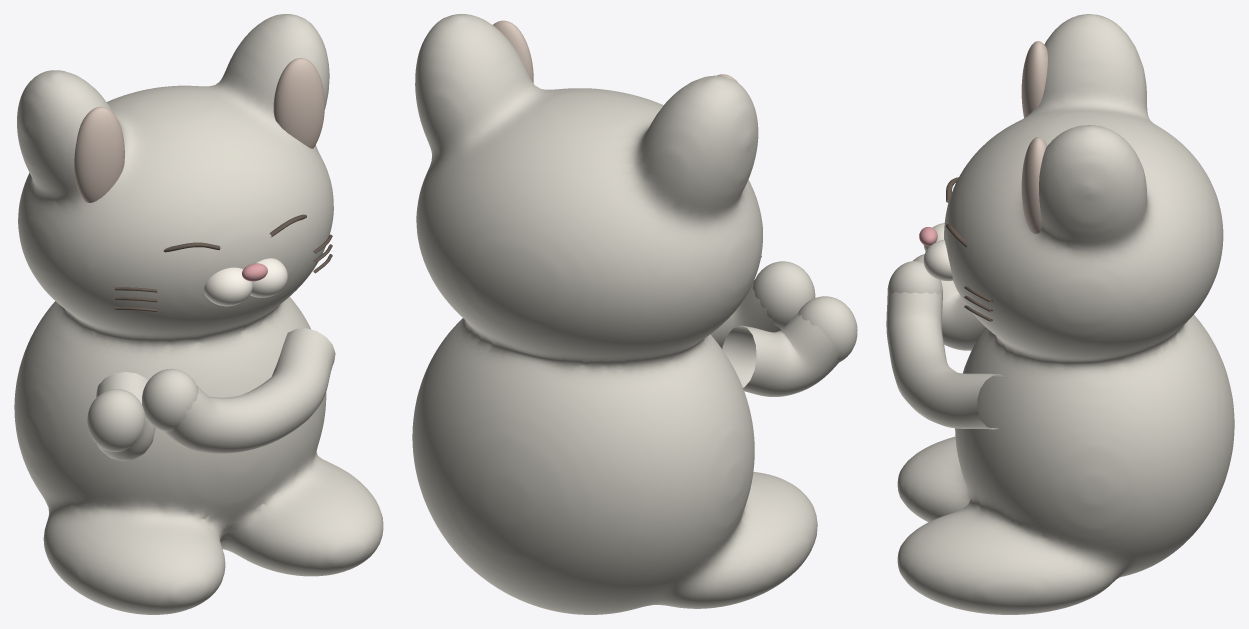
The model's file is cat-grip.glb.
3 renders of one model, left to right at view 1: azimuth 30°, elevation 25°; view 2: azimuth 150°, elevation 25°; view 3: azimuth 270°, elevation 25°, orthographic. The views are drawn at different scales.
Parts seen in each view (by area): view 1: Cat sculpt.003, right gripping arm, inner ear.002, inner ear.003, left gripping paw, right gripping paw, left gripping arm, muzzle.006, muzzle.007; view 2: Cat sculpt.003, left gripping arm, right gripping paw, left gripping paw, right gripping arm, inner ear.003; view 3: Cat sculpt.003, right gripping arm, left gripping arm, inner ear.003, inner ear.002, right gripping paw, muzzle.007.
Boxes of the visible parts, x1,y1,x2,y2 form: Cat sculpt.003: [14, 14, 383, 614]; right gripping arm: [163, 328, 335, 453]; inner ear.002: [74, 106, 124, 202]; inner ear.003: [273, 58, 324, 148]; left gripping paw: [87, 389, 145, 451]; right gripping paw: [142, 368, 198, 431]; left gripping arm: [96, 372, 155, 461]; muzzle.006: [204, 267, 252, 306]; muzzle.007: [250, 258, 287, 297]; Cat sculpt.003: [412, 14, 817, 614]; left gripping arm: [722, 312, 841, 396]; right gripping paw: [752, 261, 815, 329]; left gripping paw: [798, 296, 857, 362]; right gripping arm: [710, 280, 781, 348]; inner ear.003: [493, 20, 533, 82]; Cat sculpt.003: [897, 14, 1234, 614]; right gripping arm: [886, 291, 1007, 429]; left gripping arm: [941, 280, 985, 350]; inner ear.003: [1021, 137, 1047, 233]; inner ear.002: [1021, 41, 1047, 117]; right gripping paw: [887, 261, 942, 295]; muzzle.007: [923, 240, 952, 281].
Bounding box in the file's own units: 1.34 × 2.06 × 1.32.
